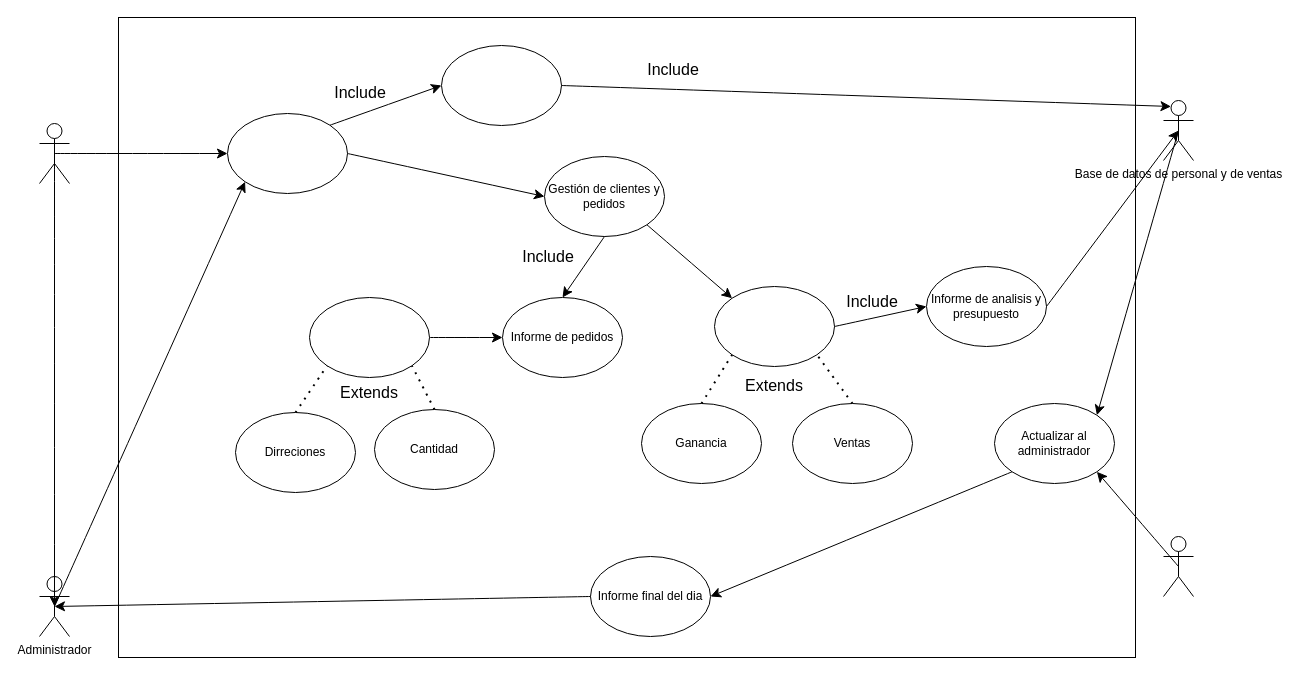
Some shapes in this 1299 by 675 pixel diagram are drawn without their labels. Here are the shapes that lost their labels. From the top down, the centre of each, then its label:
At point 501,85: "Registro de presente".
At point 54,153: "Empleados".
At point 287,153: "Inicio al sistema".
At point 369,337: "Informacion de pedidos para proveedores".
At point 774,326: "Analisis de productos".
At point 1178,566: "Sistema gestor de inventarios".
